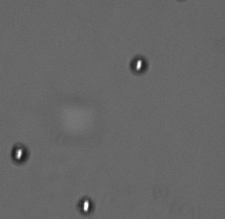Living Cell: (10, 142, 30, 165), (129, 54, 149, 76), (77, 195, 95, 216)
